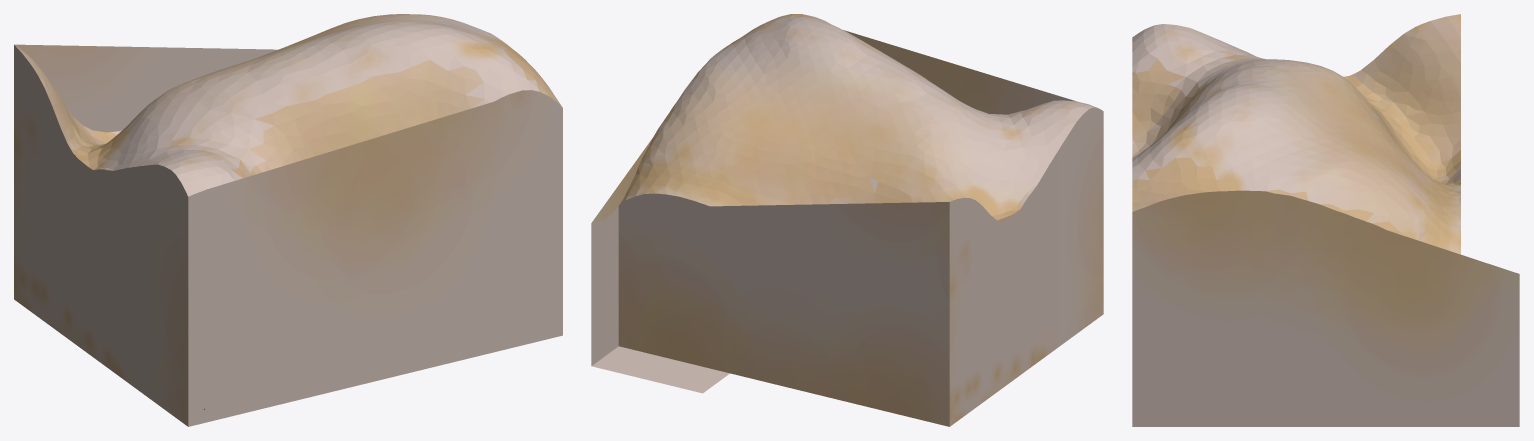
File: MBC.fbx
3 renders of one model, left to right at view 1: azimuth 30°, elevation 25°; view 2: azimuth 150°, elevation 25°; view 3: azimuth 270°, elevation 25°, orthographic. The views are drawn at different scales.
Parts seen in each view (by area): view 1: MBCusp; view 2: MBCusp; view 3: MBCusp.
Part boxes in pixels (left/top/right/bottom): MBCusp: left=14, top=14, right=562, bottom=426; MBCusp: left=591, top=14, right=1103, bottom=426; MBCusp: left=1132, top=14, right=1519, bottom=426.
Size of the model in its own units: 54.54 by 40.82 by 51.75.
1 material, 1 textured.
